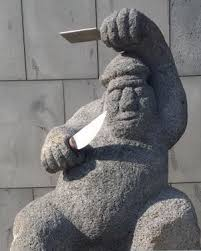Stone Statue: (4, 6, 199, 251)
